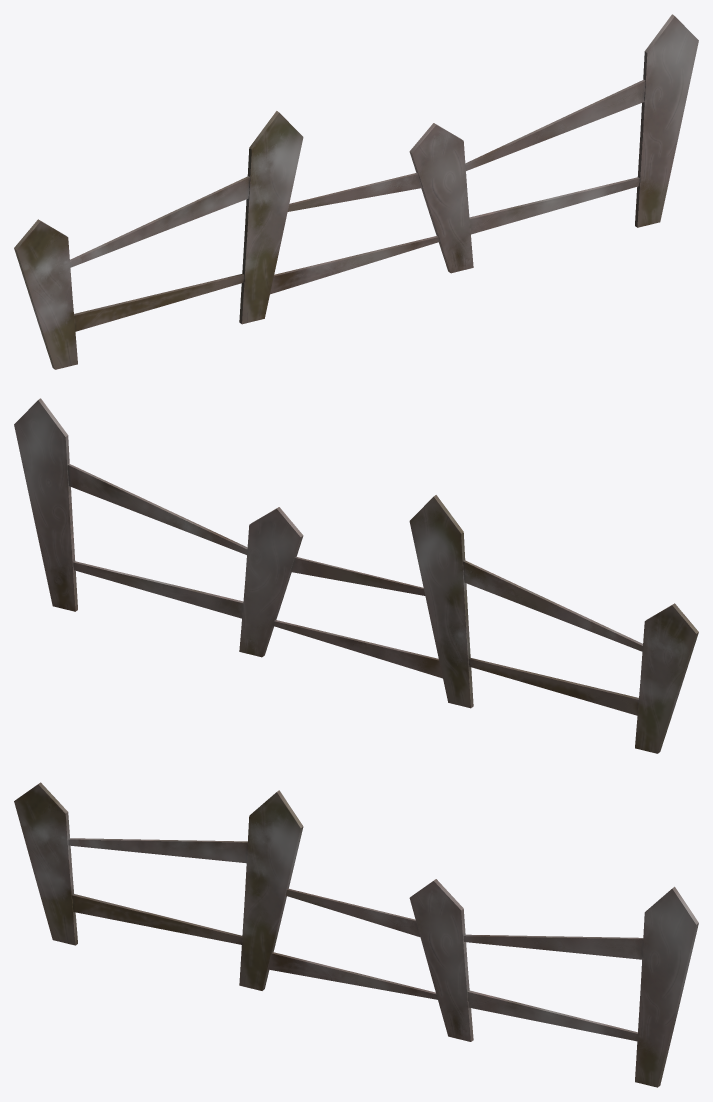
The model's file is Fences.fbx.
3 renders of one model, top to bottom at view 1: azimuth 30°, elevation 25°; view 2: azimuth 150°, elevation 25°; view 3: azimuth 330°, elevation 25°, orthographic.
Visible parts, largest first — view 1: Fence_A, Fence_B; view 2: Fence_A, Fence_B; view 3: Fence_A, Fence_B.
Part boxes in pixels (bbox=[...]): Fence_A: bbox=[270, 14, 698, 294]; Fence_B: bbox=[14, 111, 303, 369]; Fence_A: bbox=[14, 398, 442, 678]; Fence_B: bbox=[409, 495, 698, 753]; Fence_A: bbox=[268, 879, 698, 1087]; Fence_B: bbox=[14, 782, 303, 990].
Size of the model in its own units: 381 by 108 by 2.54.
